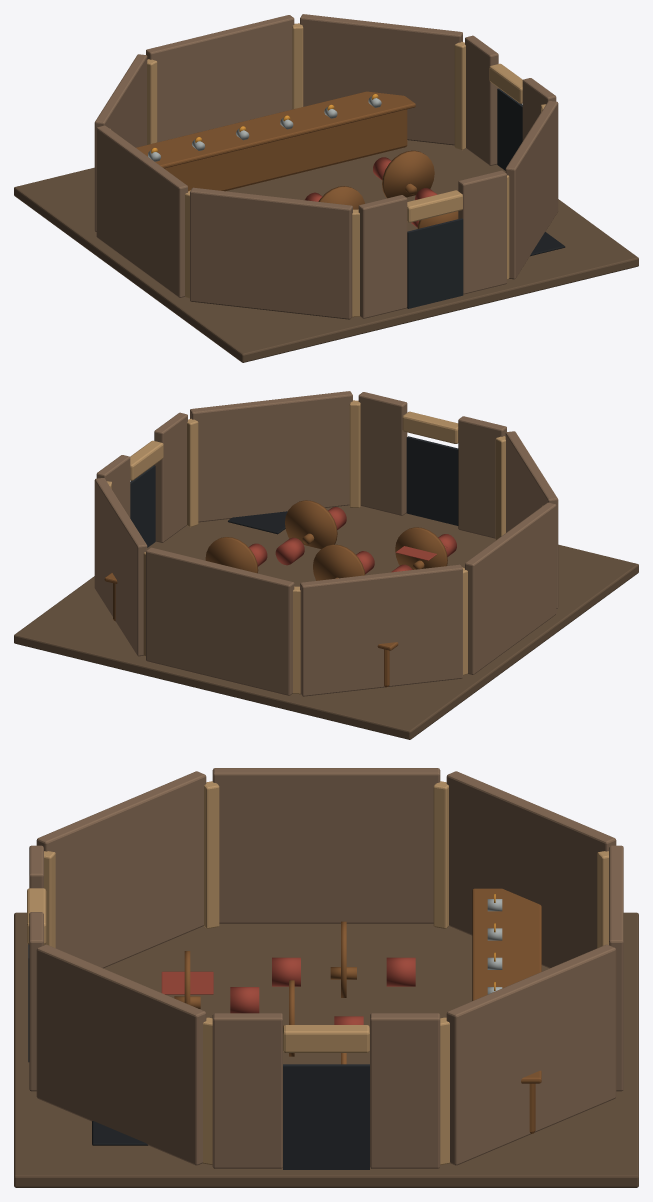
The model's file is pendelhaven_tavern_4173.glb.
3 views of the same model, one above another, from view 1: azimuth 30°, elevation 25°; view 2: azimuth 150°, elevation 25°; view 3: azimuth 270°, elevation 25° (orthographic). The views are drawn at different scales.
Visible parts, largest first — view 1: Room floor, SW solid wall, NE solid wall, N solid wall, W solid wall, Long tavern bar, Bar top, SE solid wall, S doorway right, S doorway left, S passage shadow, E doorway left (+12 smaller); view 2: Room floor, NW solid wall, SE solid wall, N solid wall, W solid wall, NE solid wall, S doorway left, S doorway right, S passage shadow, E doorway right, SW solid wall, Patron table.004 (+14 smaller); view 3: Room floor, W solid wall, SE solid wall, NE solid wall, SW solid wall, NW solid wall, E doorway left, E doorway right, E passage shadow, Bar top, N solid wall, E doorway lintel (+14 smaller).
Part boxes in pixels (x1,y1,x2,y2): Room floor: [14, 140, 638, 362]; SW solid wall: [190, 187, 352, 319]; NE solid wall: [300, 14, 462, 145]; N solid wall: [146, 15, 294, 142]; W solid wall: [96, 125, 187, 297]; Long tavern bar: [164, 109, 407, 191]; Bar top: [136, 91, 415, 168]; SE solid wall: [505, 101, 558, 279]; S doorway right: [358, 195, 407, 318]; S doorway left: [458, 170, 506, 294]; S passage shadow: [407, 218, 463, 308]; E doorway left: [465, 35, 498, 165]; Room floor: [14, 505, 638, 739]; NW solid wall: [300, 564, 462, 696]; SE solid wall: [190, 391, 352, 522]; N solid wall: [146, 547, 294, 695]; W solid wall: [465, 502, 556, 674]; NE solid wall: [94, 478, 147, 656]; S doorway left: [358, 392, 407, 515]; S doorway right: [458, 416, 506, 538]; S passage shadow: [406, 436, 458, 525]; E doorway right: [154, 412, 187, 542]; SW solid wall: [505, 431, 558, 608]; Patron table.004: [285, 500, 337, 548]; Room floor: [14, 912, 638, 1187]; W solid wall: [212, 768, 440, 923]; SE solid wall: [36, 944, 206, 1165]; NE solid wall: [446, 944, 616, 1165]; SW solid wall: [36, 771, 206, 968]; NW solid wall: [446, 771, 616, 968]; E doorway left: [370, 1013, 440, 1168]; E doorway right: [212, 1013, 282, 1168]; E passage shadow: [283, 1064, 369, 1169]; Bar top: [472, 888, 541, 1083]; N solid wall: [609, 845, 623, 1091]; E doorway lintel: [283, 1025, 369, 1052].
Size of the model in its own units: 18 by 5.2 by 18.
